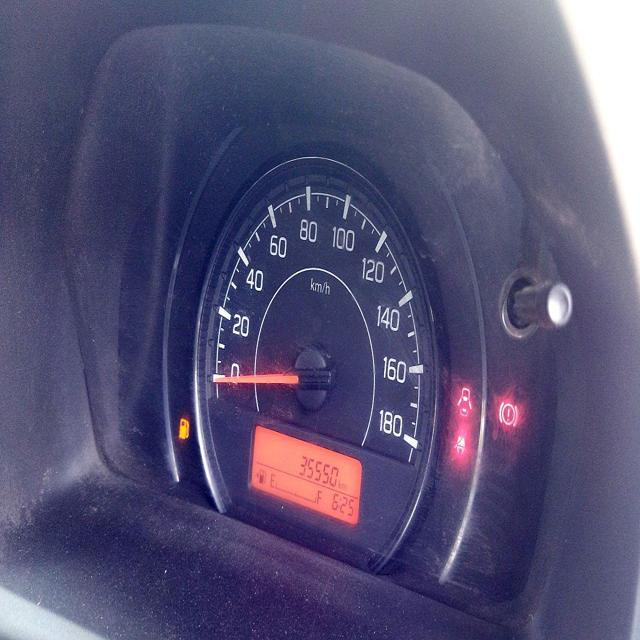odometer: (298, 451, 340, 490)
